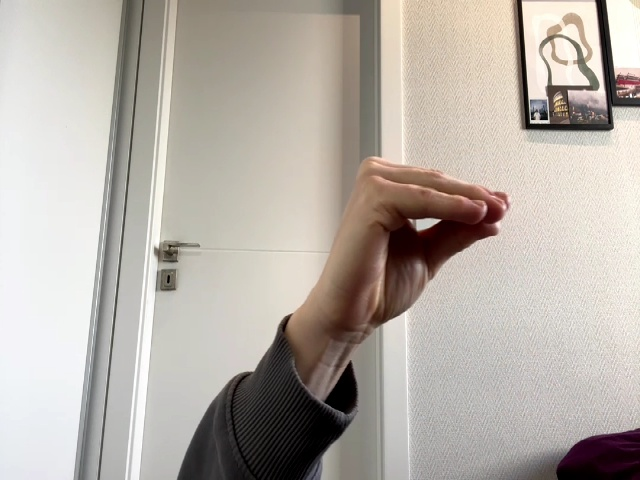E: (320, 156, 510, 334)
